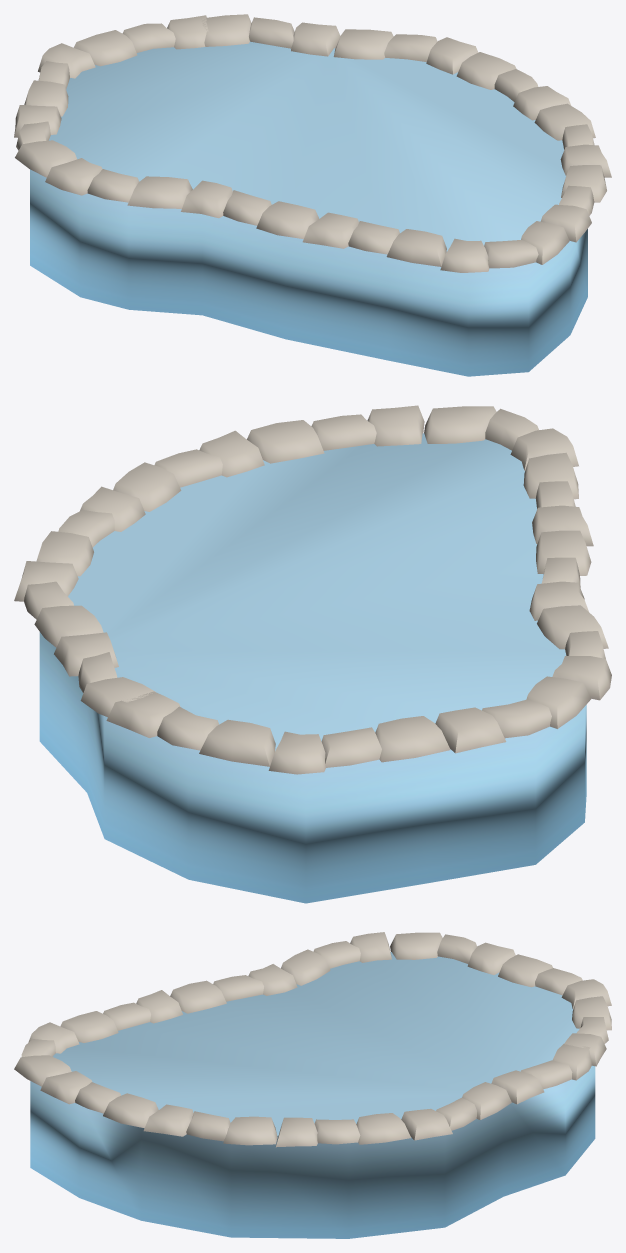
Rendered from Water.fbx.
3 views of the same model, one above another, from view 1: azimuth 30°, elevation 25°; view 2: azimuth 150°, elevation 25°; view 3: azimuth 270°, elevation 25° (orthographic). The views are drawn at different scales.
Parts seen in each view (by area): view 1: Cylinder; view 2: Cylinder; view 3: Cylinder.
Part boxes in pixels (left/top/right/bottom): Cylinder: left=14, top=14, right=611, bottom=376; Cylinder: left=14, top=405, right=611, bottom=903; Cylinder: left=14, top=932, right=611, bottom=1238.
Size of the model in its own units: 213 by 55.72 by 264.
